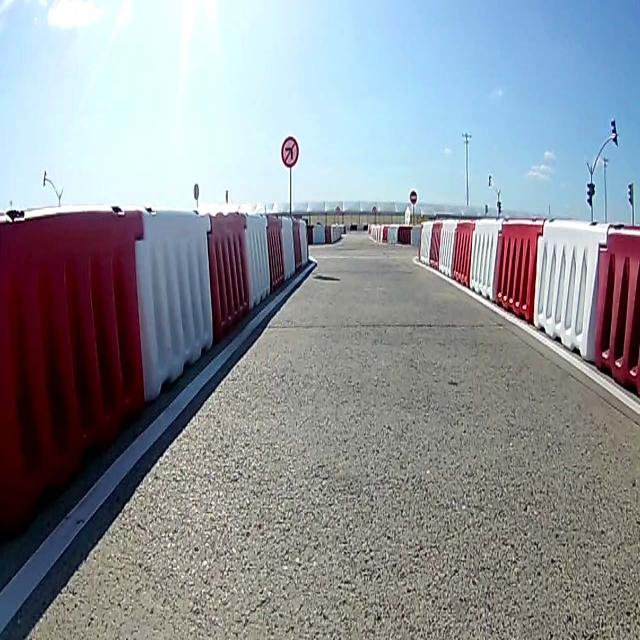girisyok: (409, 189, 418, 206)
soladonulmez: (281, 136, 299, 168)
